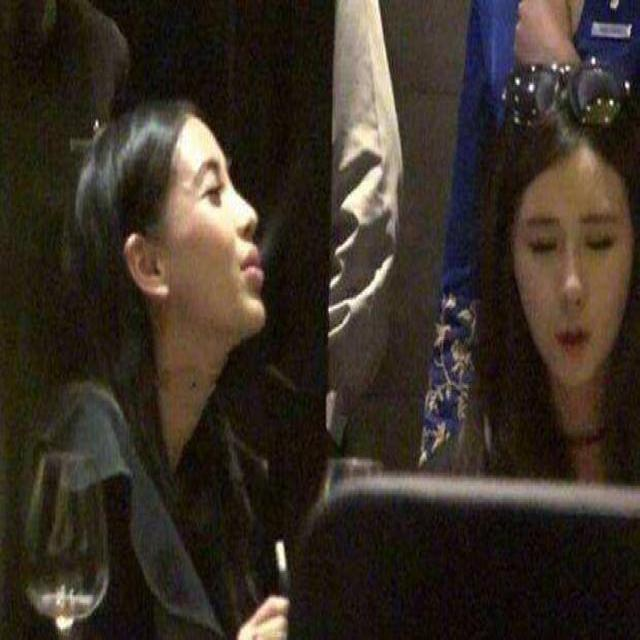smoking: (270, 521, 290, 589)
